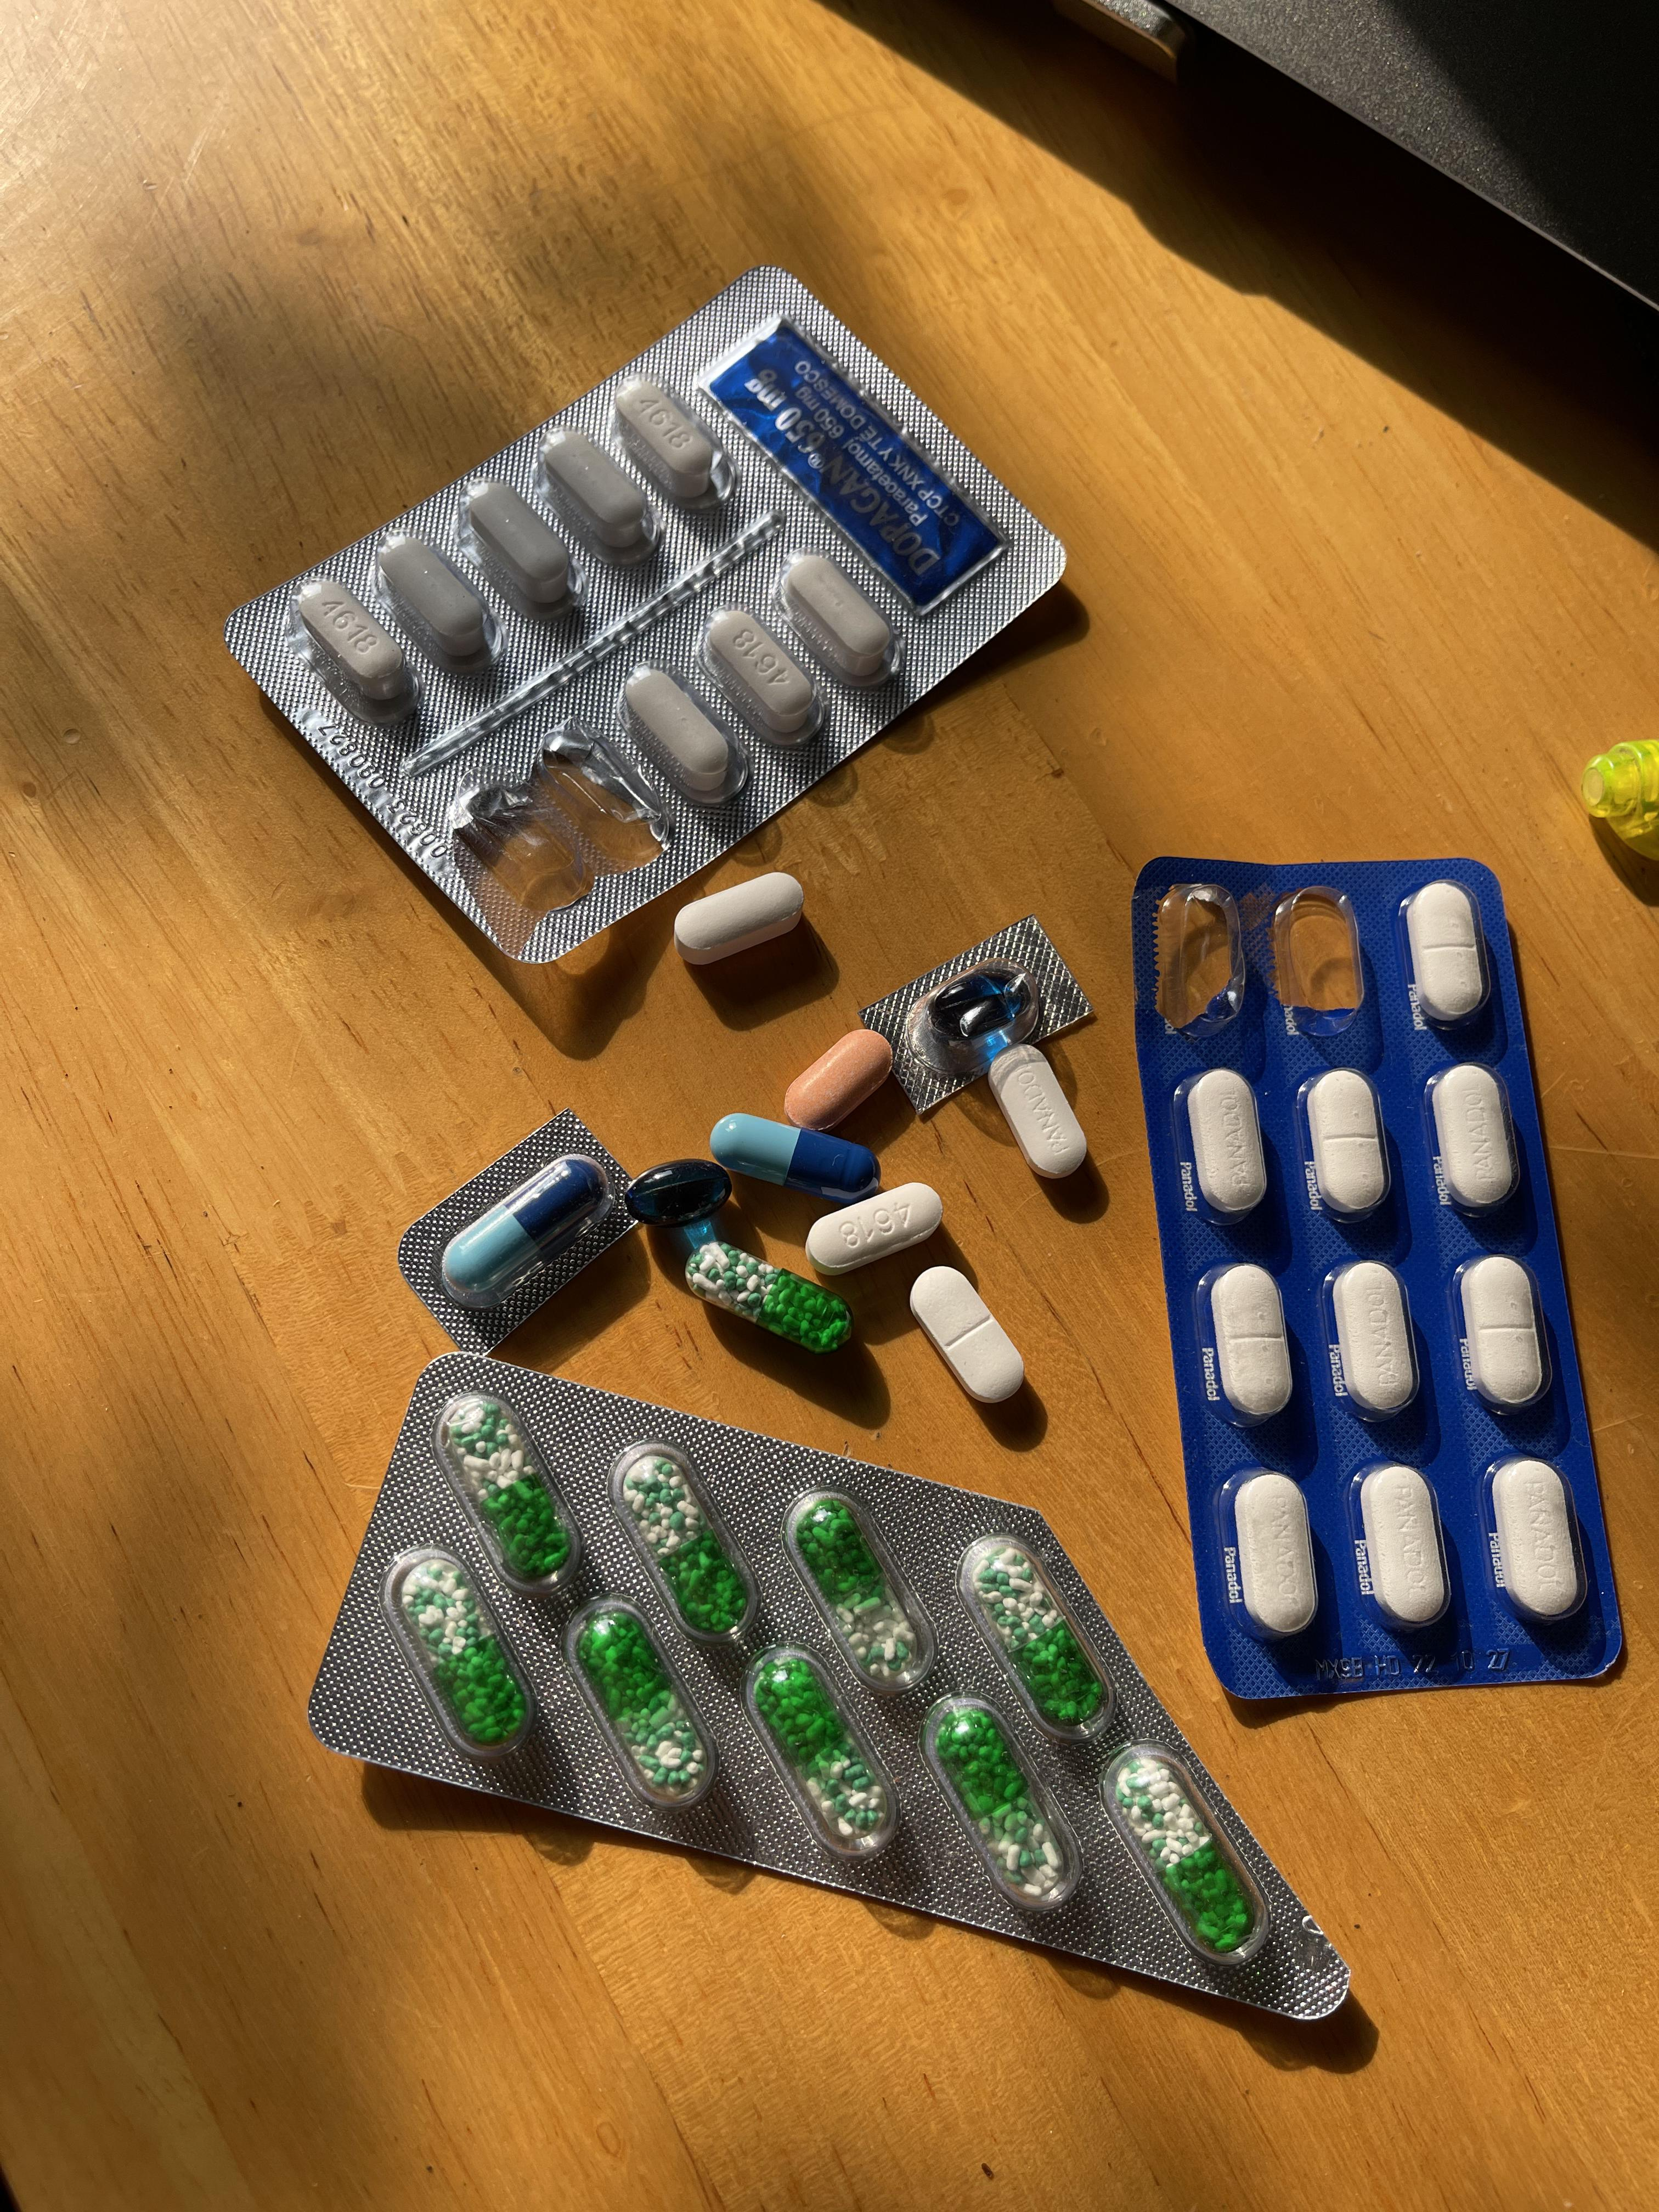Lincomyxin_500mg: (627, 1160, 727, 1228), (931, 977, 1014, 1047)
Loratadine_10mg: (784, 1028, 892, 1122)
Paracetamol_350mg: (910, 1264, 1026, 1404), (1358, 1463, 1446, 1630), (1492, 1460, 1579, 1620), (1232, 1472, 1316, 1637), (1459, 1256, 1546, 1411), (1330, 1261, 1415, 1418), (1206, 1263, 1291, 1420), (988, 1049, 1086, 1177), (1305, 1069, 1387, 1217), (1431, 1066, 1514, 1211), (1185, 1069, 1265, 1217), (1406, 883, 1486, 1024)
Paracetamol_500mg: (699, 606, 824, 749), (375, 531, 493, 669), (624, 667, 742, 803), (781, 554, 899, 685), (464, 481, 577, 615), (540, 427, 657, 554), (613, 376, 725, 507), (298, 585, 410, 712), (809, 1183, 943, 1271), (673, 873, 805, 960)
Paracetamol_650mg: (1112, 1754, 1253, 1951), (932, 1703, 1065, 1904), (753, 1655, 882, 1844), (575, 1608, 706, 1794), (399, 1559, 525, 1743), (798, 1501, 924, 1681), (450, 1402, 570, 1578), (976, 1545, 1096, 1719), (627, 1460, 746, 1632), (685, 1237, 854, 1355)
pill: (443, 1157, 601, 1292), (713, 1113, 877, 1197)
